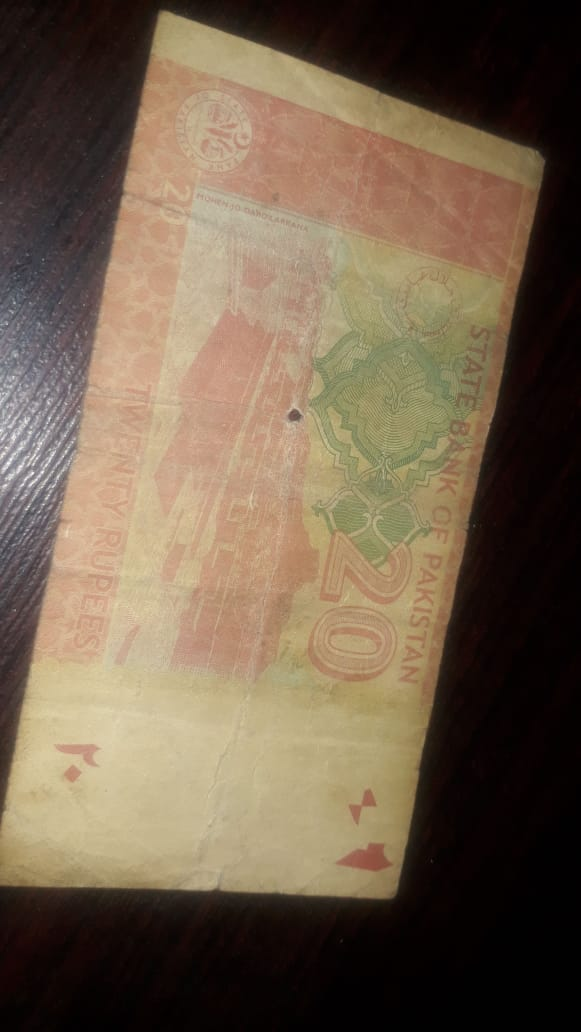20 rupee: (16, 20, 552, 964)
